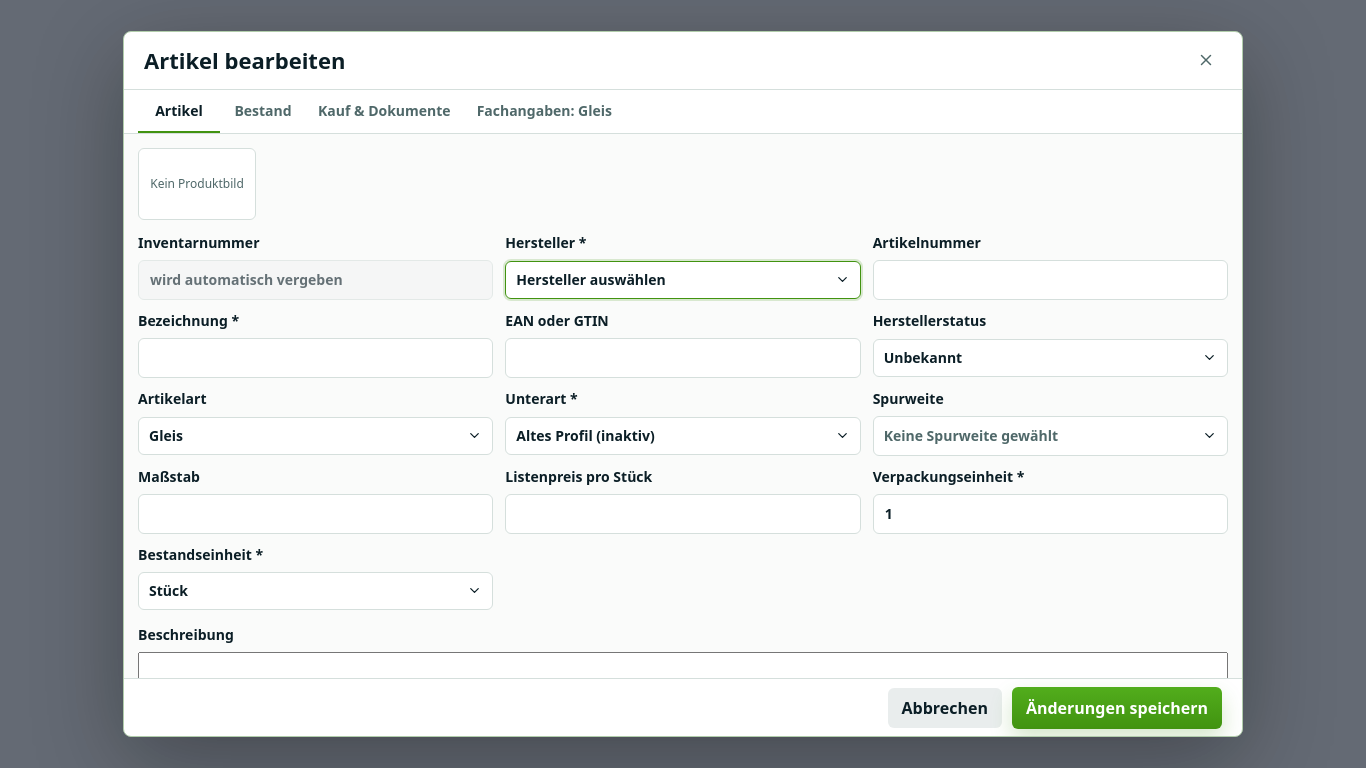
Test case: ArticleEditorDialog › represents an inactive historical subtype without permitting arbitrary raw keys
Click the button with aria-label "Unterart". click: (555, 436)
box: [505,417,861,455]
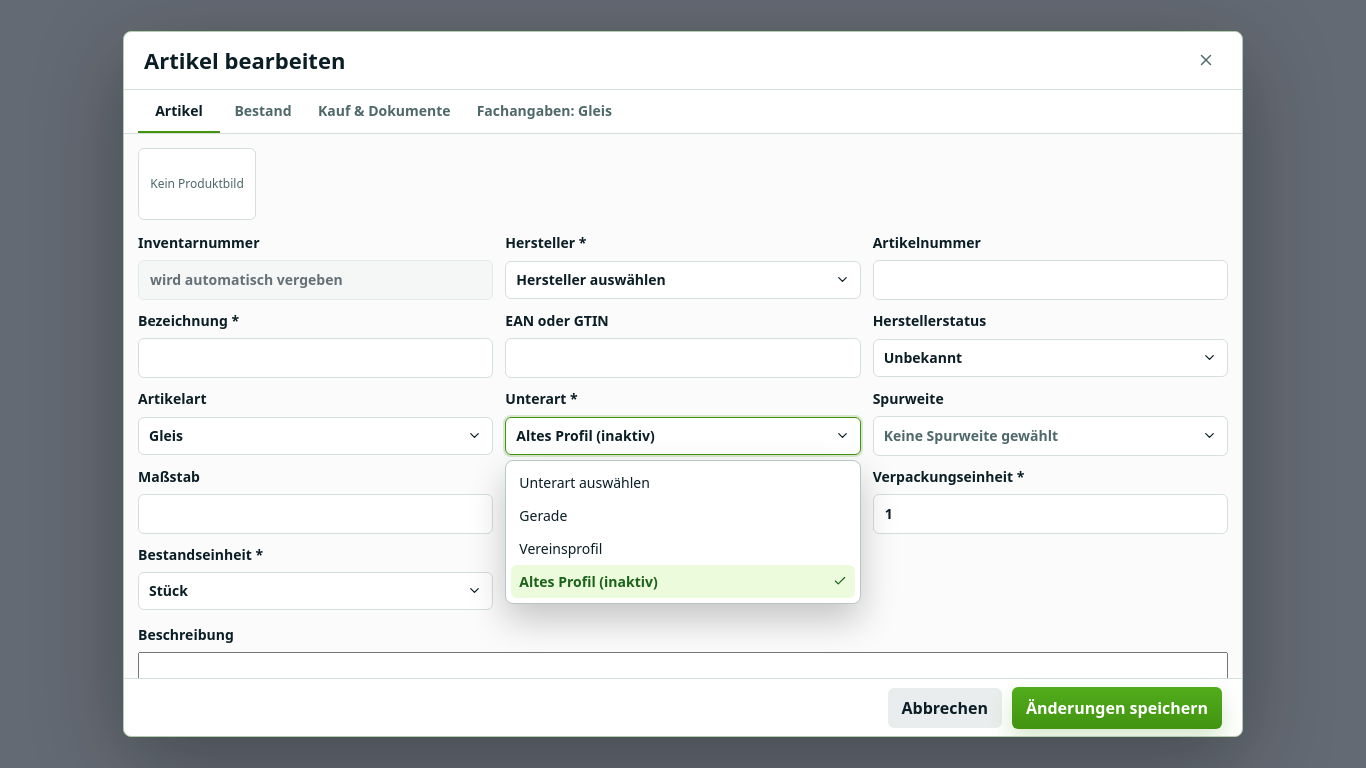
Expected: the option "Altes Profil (inaktiv)" is shown, [511,565,855,598]
